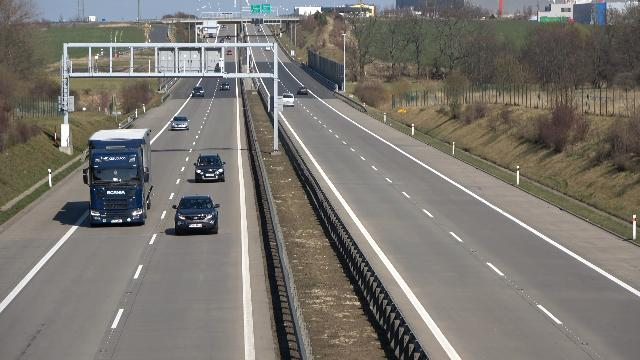car: (173, 196, 221, 235), (193, 152, 226, 183), (171, 115, 190, 131), (192, 85, 205, 97), (219, 81, 231, 91), (296, 86, 309, 95)
truck: (87, 129, 152, 226)
van: (282, 93, 296, 108)
